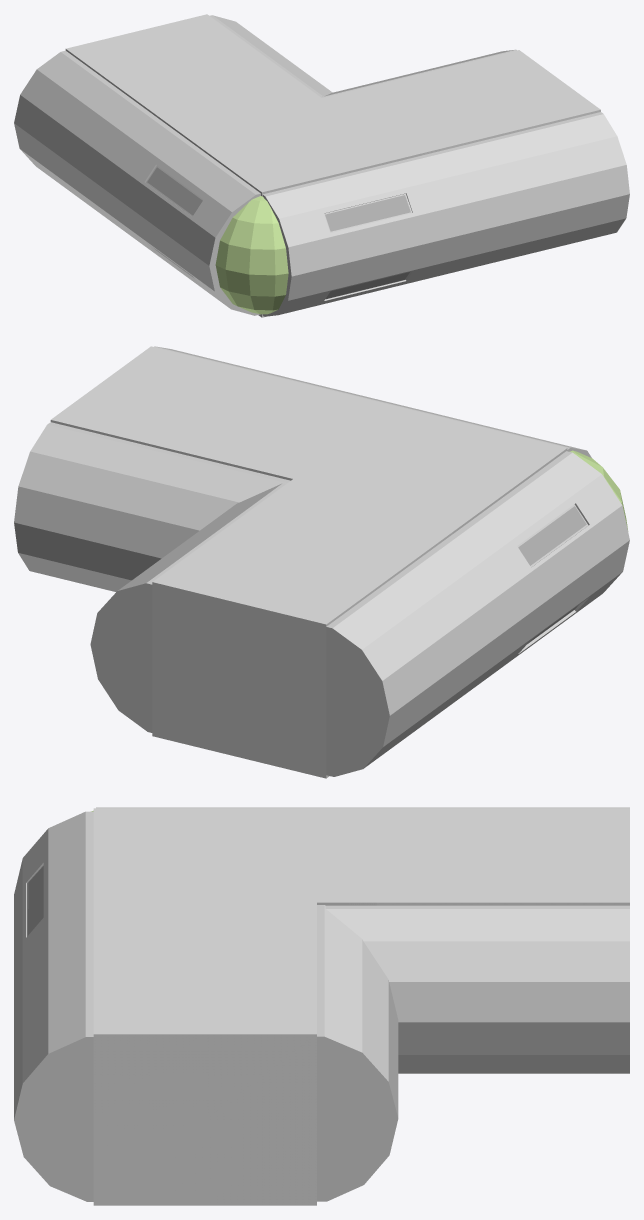
3 renders of one model, top to bottom at view 1: azimuth 30°, elevation 25°; view 2: azimuth 150°, elevation 25°; view 3: azimuth 270°, elevation 25°, orthographic. The views are drawn at different scales.
Parts seen in each view (by area): view 1: Sphere_2; view 2: Sphere_2; view 3: Sphere_2.
Boxes of the visible parts, x1=… form: Sphere_2: x1=14, y1=14, x2=629, y2=317; Sphere_2: x1=14, y1=346, x2=629, y2=778; Sphere_2: x1=14, y1=807, x2=629, y2=1205.
Bounding box in the file's own units: 946 × 290 × 945.
